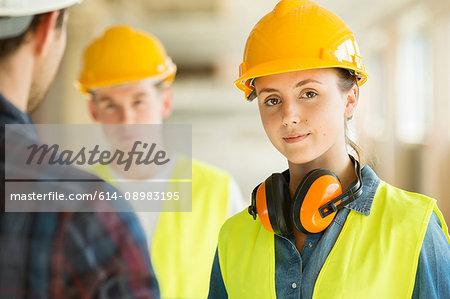helmet: (234, 1, 369, 96), (76, 28, 180, 92)
